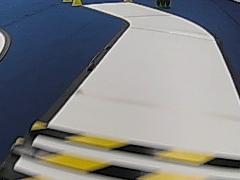bump: (4, 126, 232, 180)
